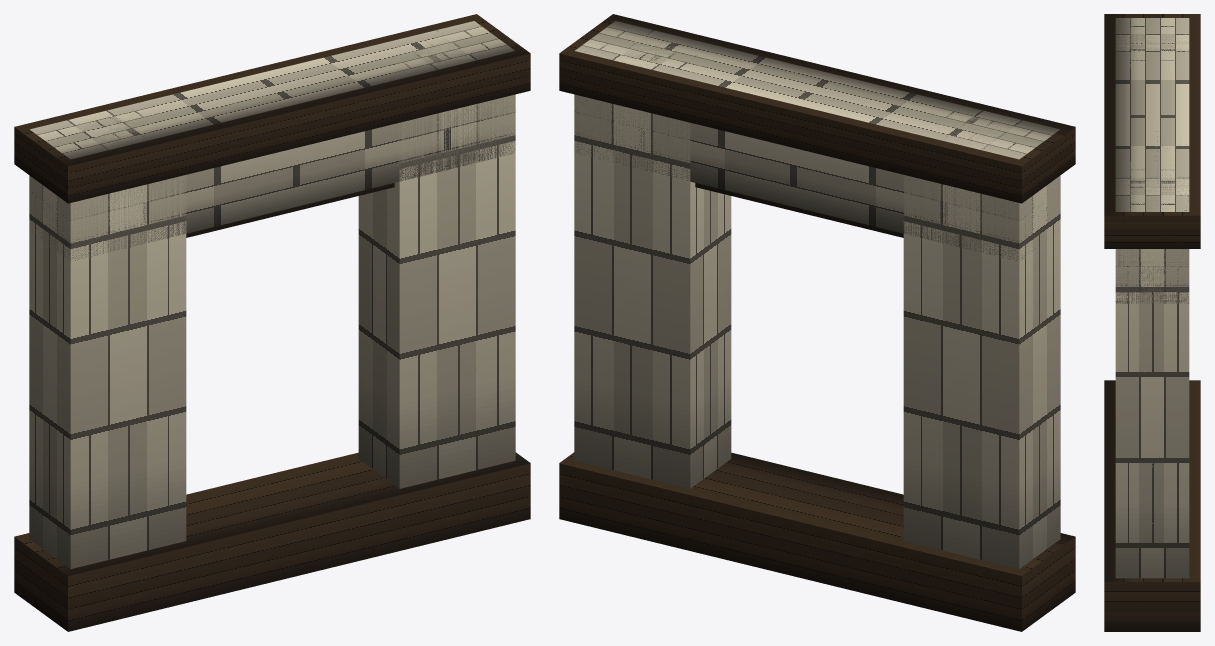
Rendered from wall_door_plaster.gltf.
The picture shows the model from 3 angles, left to right: view 1: azimuth 30°, elevation 25°; view 2: azimuth 150°, elevation 25°; view 3: azimuth 270°, elevation 25°; orthographic projection. The views are drawn at different scales.
Parts seen in each view (by area): view 1: wall_door_plaster; view 2: wall_door_plaster; view 3: wall_door_plaster.
Boxes of the visible parts, x1,y1,x2,y2 form: wall_door_plaster: [14, 14, 530, 631]; wall_door_plaster: [559, 14, 1075, 631]; wall_door_plaster: [1104, 14, 1200, 631].
Bounding box in the file's own units: 1.04 × 1 × 0.21.
Materials: 1 (1 with a texture image).
